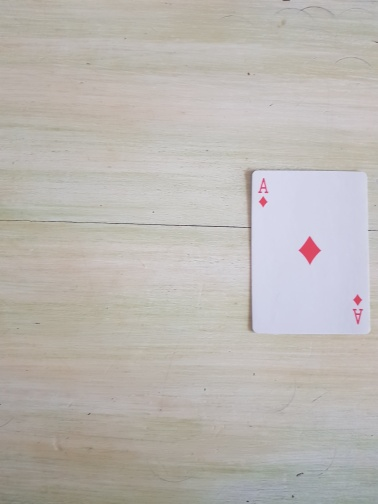ace: (250, 169, 372, 336)
